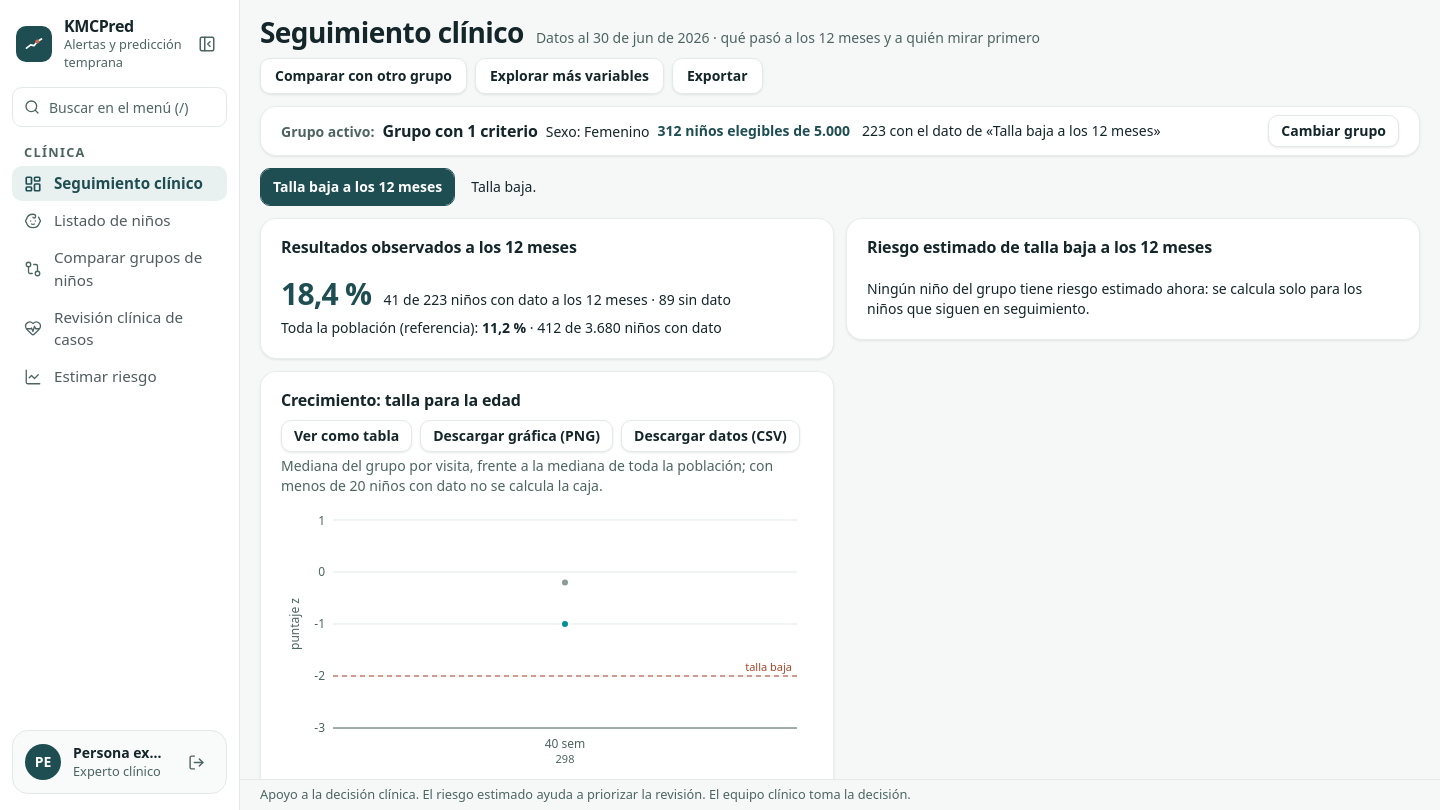
el panel del grupo en la vista clínica es un cajón › abre un diálogo modal fuera de la barra, con su cifra y «Listo»; Escape y «Listo» lo cierran y el foco vuelve al botón
The image size is (1440, 810).
Click the button "Cambiar grupo".
click(1334, 131)  # box [1268, 115, 1399, 147]
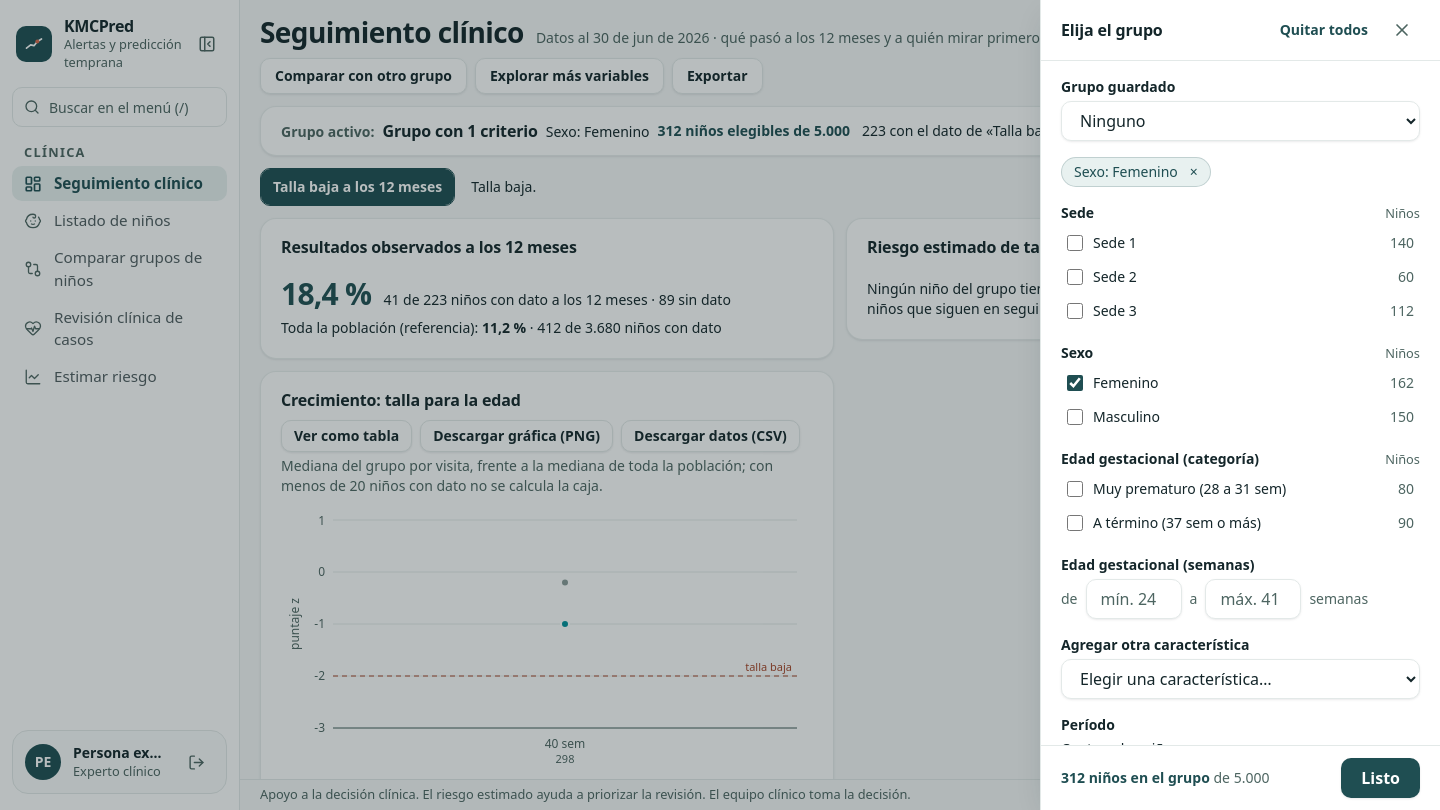
Expected: the text "312 niños elegibles de 5.000" is shown, [658, 121, 850, 141]
Expected: the text "312 niños en el grupo" is shown, [1061, 768, 1210, 787]
Expected: the button "Quitar todos" is shown, [1268, 14, 1380, 46]
Press Escape
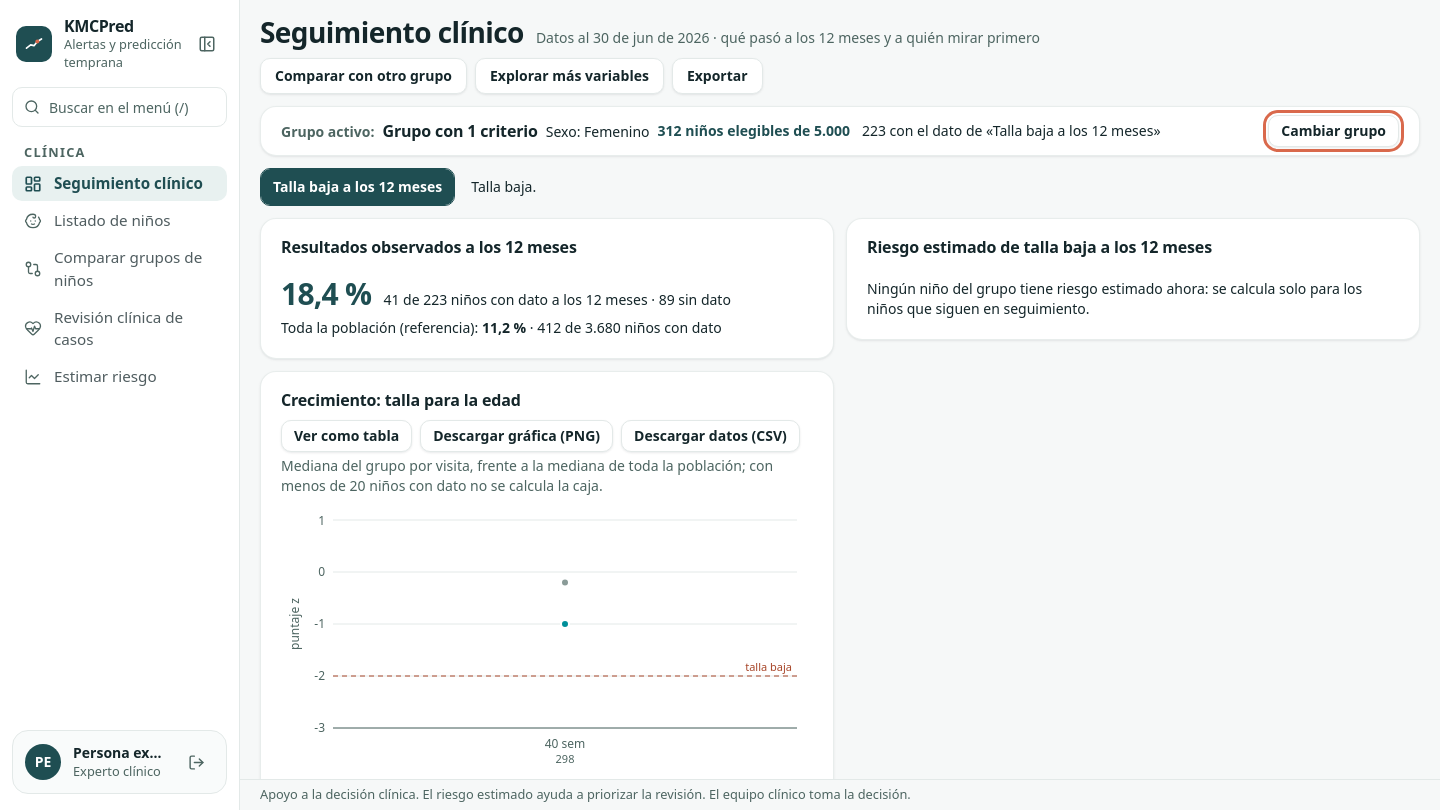
Expected: the heading "Elija el grupo" is gone
Click the button "Cambiar grupo".
click(1334, 131)  # box [1268, 115, 1399, 147]
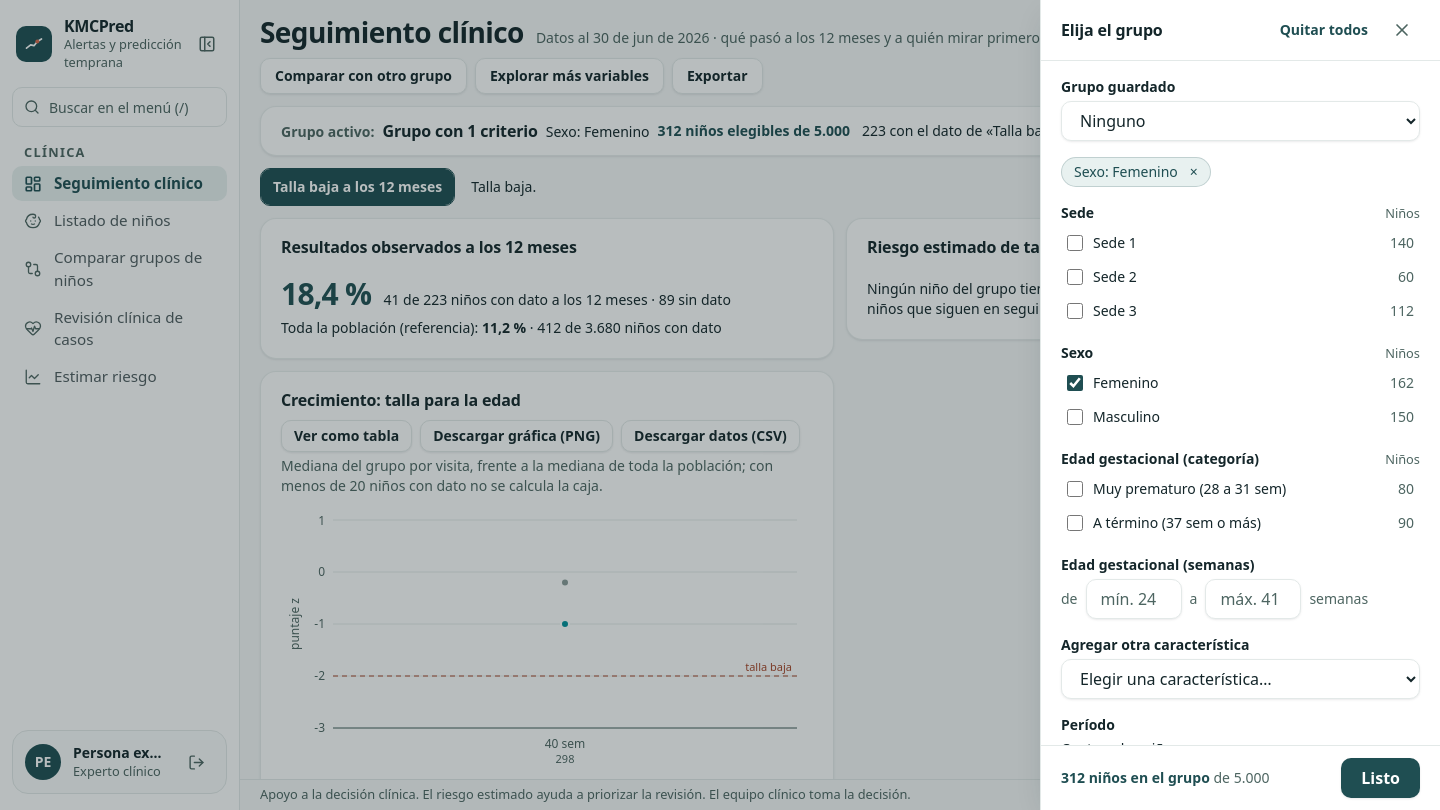
Click the button "Listo".
click(1381, 778)  # box [1341, 758, 1420, 798]
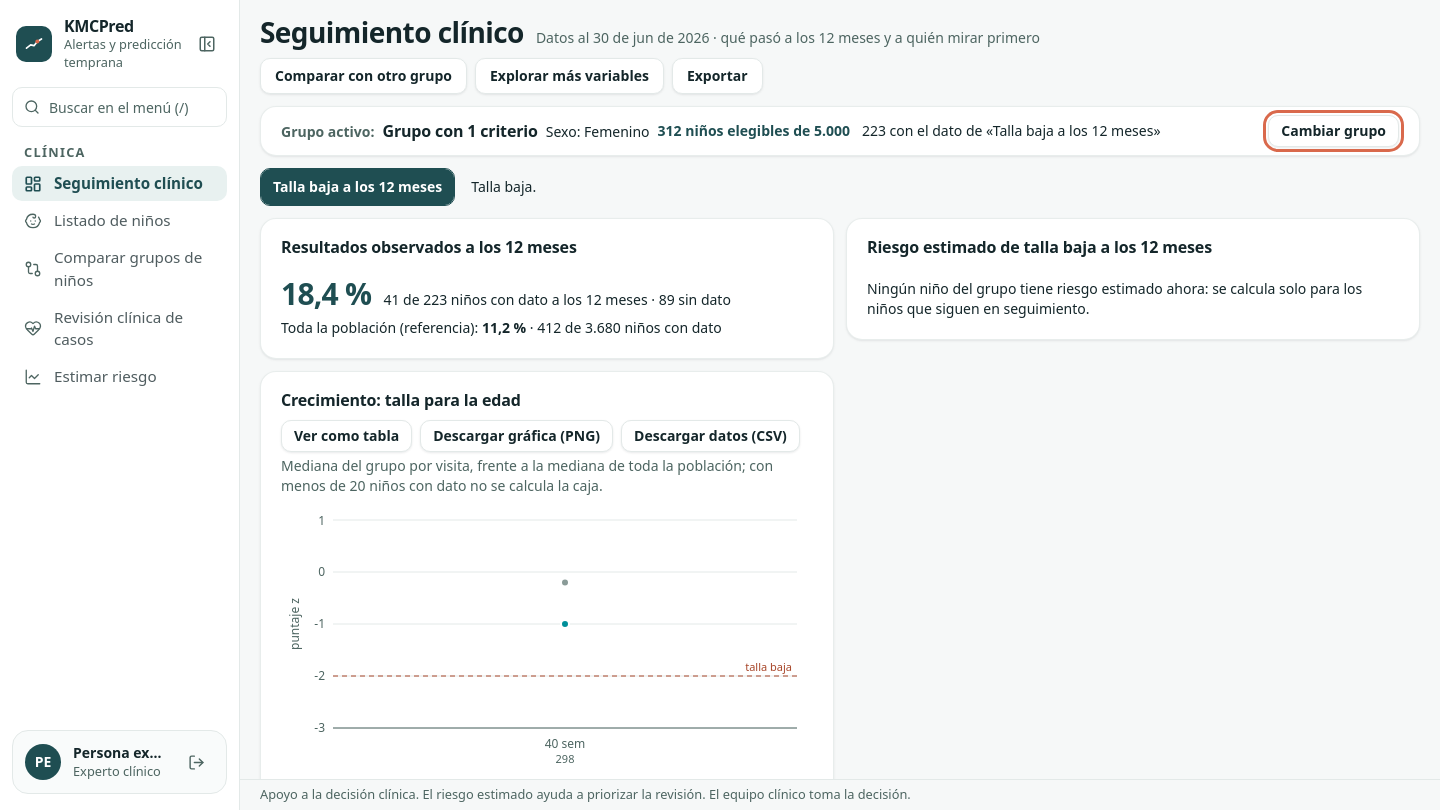
Expected: the heading "Elija el grupo" is gone
